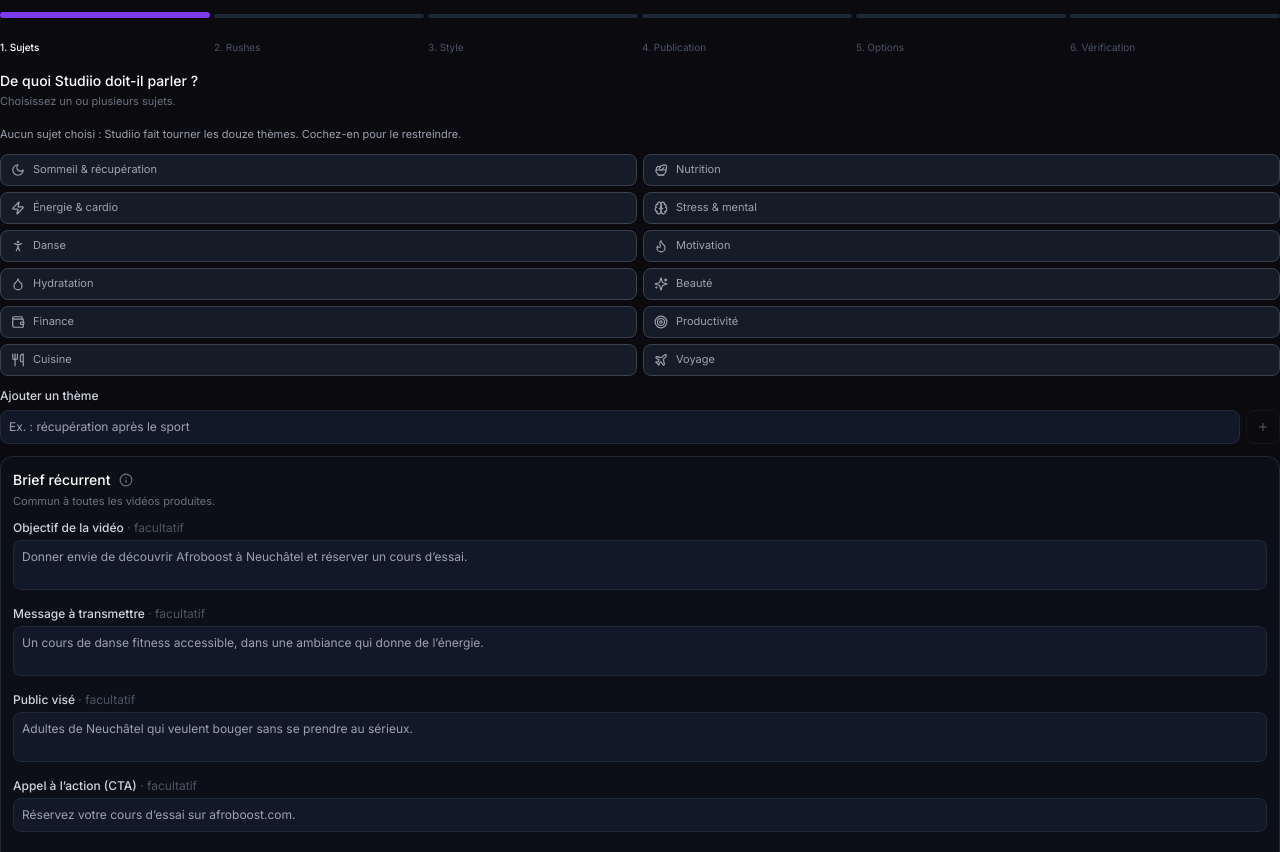
Test: La date de début › dit quand la colonne manque, au lieu d un champ sans effet
The image size is (1280, 852).
Expected: the text "De quoi Studiio doit-il parler ?" is shown, [0, 72, 198, 89]
Click the button named "Publication". click: (747, 16)
box: [642, 14, 852, 18]
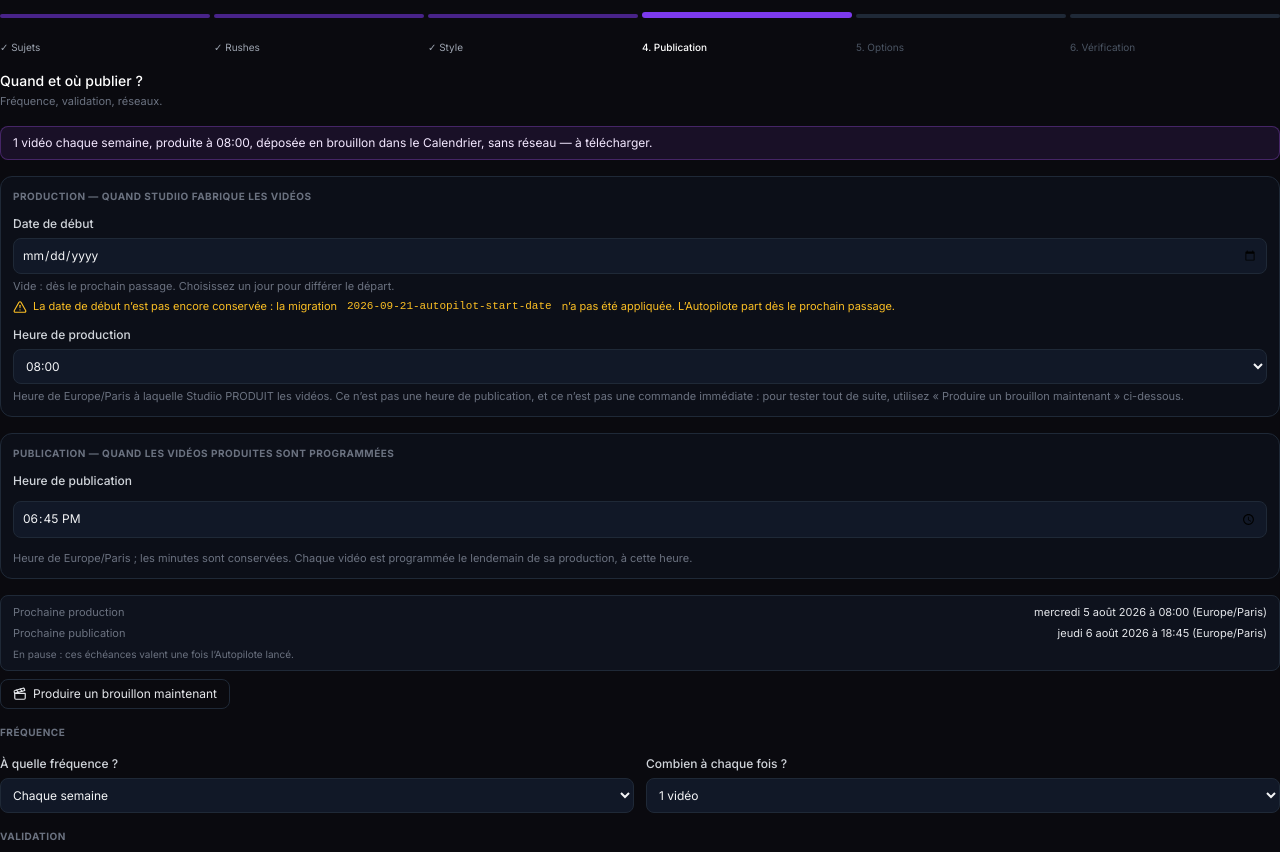
Result: the element that starts with "Prochaine production" is shown at [0, 595, 1279, 671]
Result: the text "2026-09-21-autopilot-start-date" is shown at [347, 300, 552, 312]
